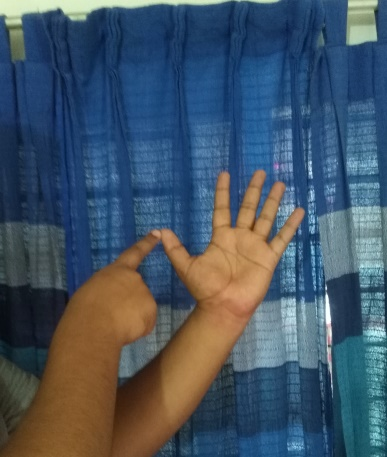a: (100, 168, 305, 327)
